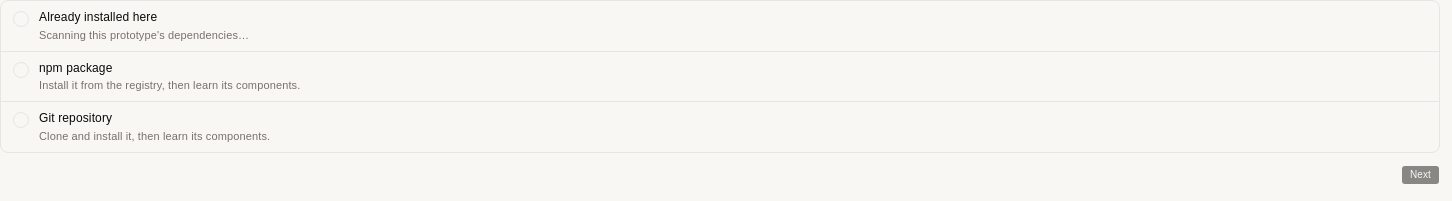
Test: AddDesignSystem › shows a scanning message while loading
The width and height of the screenshot is (1452, 201).
Click the label with test id "add-design-system-detected" at (98, 17), box left=1, top=1, right=1439, bottom=52
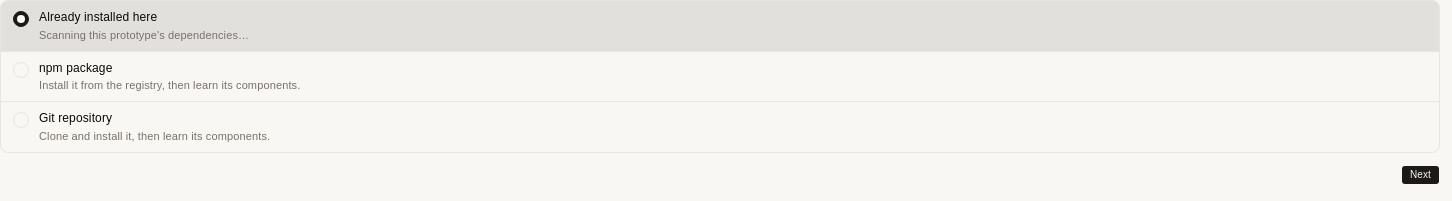
Click the button with test id "add-design-system-next" at (1420, 175), box left=1401, top=165, right=1440, bottom=185
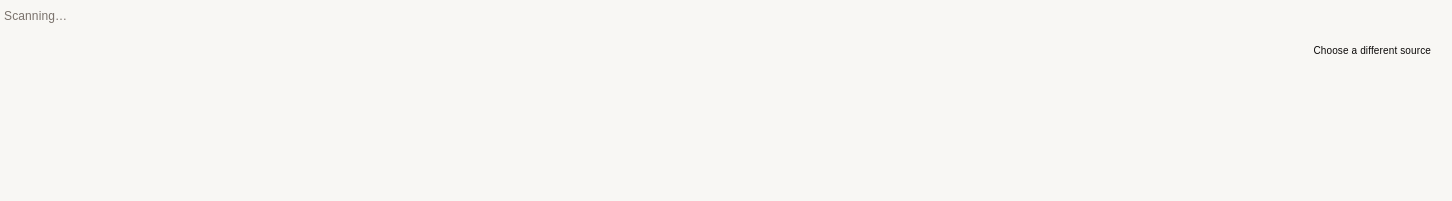
Now the text "Scanning…" is shown, box left=4, top=9, right=67, bottom=23
